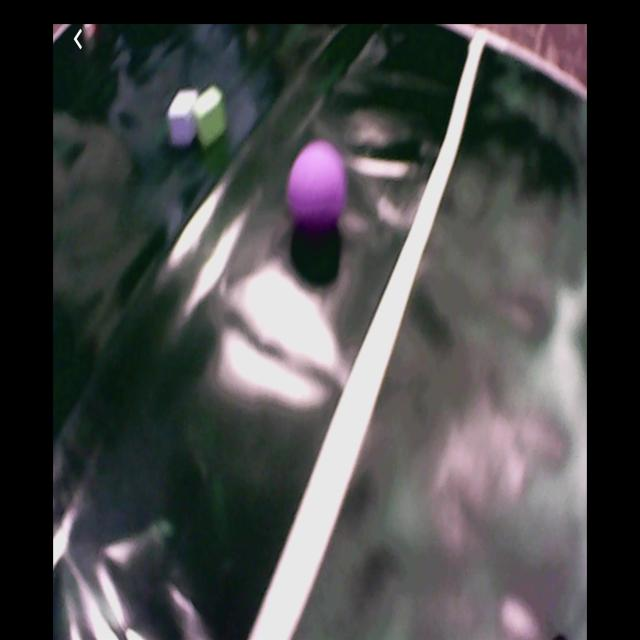ball: (290, 142, 348, 230)
